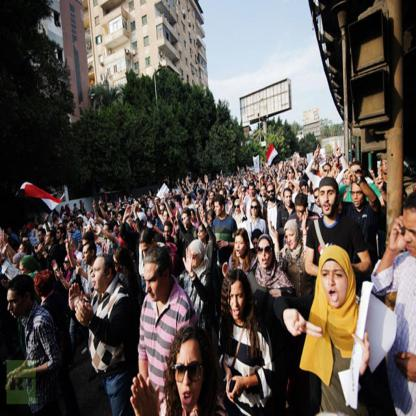face: (176, 343, 205, 414), (322, 261, 350, 309), (146, 263, 162, 303), (404, 208, 416, 259), (230, 284, 245, 321), (319, 187, 337, 216), (92, 260, 107, 293), (7, 290, 23, 320), (258, 242, 272, 269), (352, 183, 365, 209), (141, 241, 153, 265), (350, 167, 363, 186), (235, 235, 246, 257), (286, 229, 297, 250), (382, 160, 393, 176), (189, 252, 198, 269), (83, 247, 91, 265), (113, 256, 121, 273), (298, 205, 307, 220), (164, 225, 172, 239), (182, 214, 190, 228), (198, 227, 206, 241), (316, 191, 323, 207), (215, 202, 222, 217), (285, 193, 292, 208), (136, 219, 143, 234), (103, 226, 110, 240), (268, 186, 275, 200), (45, 233, 52, 246), (252, 202, 258, 217), (20, 264, 27, 276), (254, 239, 261, 251), (325, 167, 332, 179), (343, 173, 350, 185), (235, 202, 241, 215), (83, 240, 90, 251), (302, 186, 309, 197), (64, 259, 70, 271), (206, 201, 212, 213), (261, 187, 267, 198), (94, 214, 99, 227), (118, 214, 124, 224), (250, 186, 255, 198), (15, 260, 20, 270), (58, 230, 63, 240), (160, 206, 165, 216), (189, 212, 194, 222), (221, 191, 226, 201), (39, 234, 45, 242), (175, 202, 181, 210), (211, 194, 216, 203), (23, 240, 29, 246), (112, 212, 116, 221), (185, 196, 189, 205), (299, 173, 303, 182), (69, 226, 73, 234), (104, 211, 108, 219), (155, 199, 159, 207), (208, 216, 212, 224), (237, 181, 241, 189), (53, 213, 57, 221), (242, 190, 247, 196), (147, 210, 151, 217), (290, 171, 293, 180), (8, 230, 12, 236), (148, 198, 152, 204), (168, 203, 171, 211), (197, 193, 201, 199), (290, 184, 293, 192), (252, 181, 256, 187), (64, 215, 68, 221), (21, 245, 25, 250), (282, 173, 286, 178), (111, 203, 114, 209), (139, 205, 142, 211), (258, 184, 261, 190), (200, 181, 203, 187), (316, 165, 319, 171), (79, 220, 82, 225), (71, 212, 74, 217), (88, 213, 91, 218), (125, 204, 128, 209), (134, 200, 137, 205), (219, 184, 222, 189), (214, 188, 217, 193), (209, 187, 212, 192), (301, 165, 304, 170), (170, 193, 173, 197), (182, 192, 184, 198), (119, 203, 121, 208), (73, 205, 76, 208), (79, 211, 80, 216), (81, 202, 82, 207), (62, 208, 64, 210), (67, 206, 68, 209)
